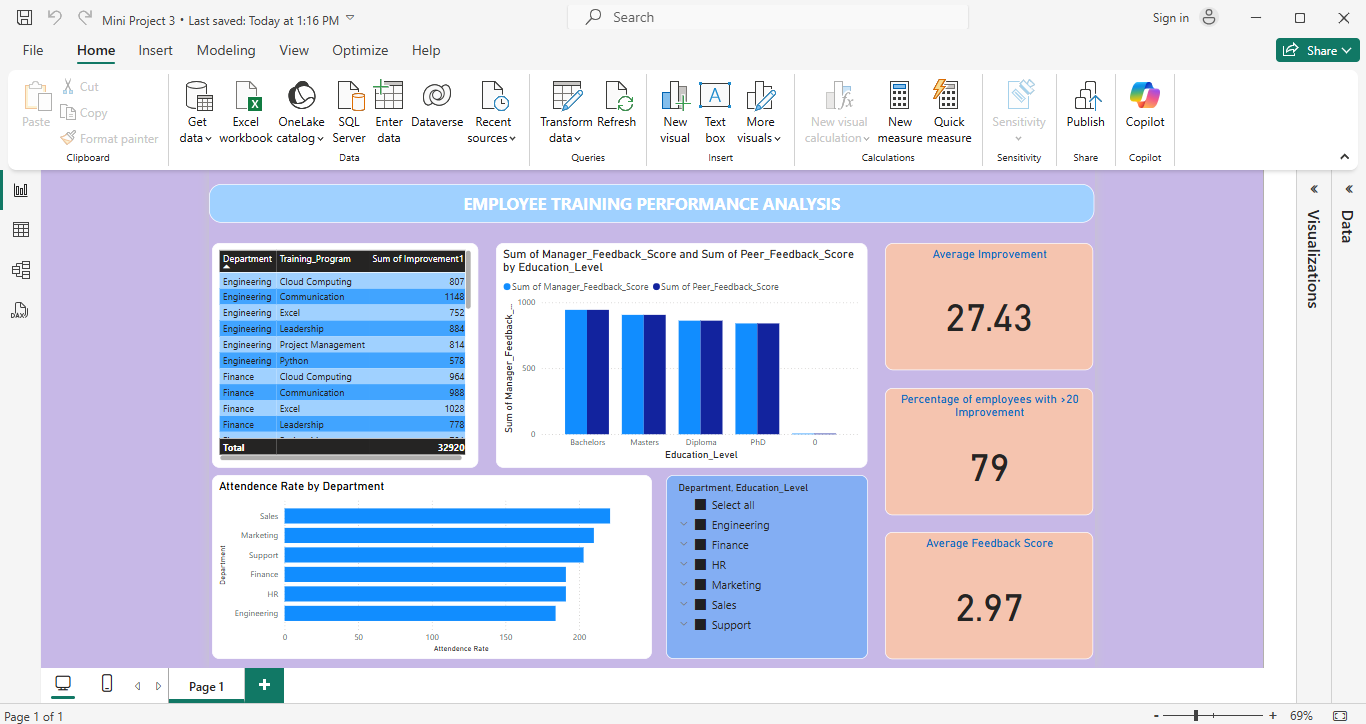

Layout of this report page (visuals, bound fields, positions):
{"tool":"powerbi","page":{"name":"Employee Training Performance Analysis","canvas":[1280,720],"ordinal":0},"visuals":[{"type":"textbox","box":[0,20.6,1280,56.4],"z":0},{"type":"tableEx","fields":{"Values":["employee_training_performance_d.Department","employee_training_performance_d.Training_Program","Sum(employee_training_performance_d.Improvement)"]},"box":[3.9,105.8,384.5,325.2],"z":1000},{"type":"clusteredColumnChart","fields":{"Category":["employee_training_performance_d.Education_Level"],"Y":["Sum(employee_training_performance_d.Manager_Feedback_Score)","Sum(employee_training_performance_d.Peer_Feedback_Score)"]},"box":[415.7,106,536.8,324.8],"z":2000},{"type":"barChart","fields":{"Category":["employee_training_performance_d.Department"],"Y":["employee_training_performance_d.Attendence Rate"]},"box":[4.3,441,636.1,266],"z":3000},{"type":"card","title":"Average Improvement","fields":{"Values":["Avg(employee_training_performance_d.Improvement)"]},"box":[977.3,105.5,300.7,148.9],"z":4000},{"type":"card","title":"Average Feedback Score","fields":{"Values":["Avg(employee_training_performance_d.Peer_Feedback_Score)"]},"box":[978.8,456.9,300.7,148.9],"z":5000},{"type":"card","title":"Percentage of employees with >20  Improvement","fields":{"Values":["employee_training_performance_d.Count Improvement >20"]},"box":[977.3,280.5,300.7,147.5],"z":6000},{"type":"slicer","fields":{"Values":["employee_training_performance_d.Department Hierarchy.Department","employee_training_performance_d.Department Hierarchy.Education_Level"]},"box":[659.3,441,292,266],"z":7000},{"type":"actionButton","box":[1116.1,624.6,161.9,82.4],"z":7001}]}

Visuals, with their boxes on the page's 1280x720 design canvas (x1, y1, x2, y2). These are canvas units, not pixel positions in the 1366x724 screenshot, which may show the page scaled, cropped or inside an application window:
textbox: left=0, top=21, right=1280, bottom=77
tableEx - employee_training_performance_d.Department x employee_training_performance_d.Training_Program: left=4, top=106, right=388, bottom=431
clusteredColumnChart - employee_training_performance_d.Education_Level x Sum(employee_training_performance_d.Manager_Feedback_Score): left=416, top=106, right=952, bottom=431
barChart - employee_training_performance_d.Department x employee_training_performance_d.Attendence Rate: left=4, top=441, right=640, bottom=707
"Average Improvement" card: left=977, top=106, right=1278, bottom=254
"Average Feedback Score" card: left=979, top=457, right=1280, bottom=606
"Percentage of employees with >20  Improvement" card: left=977, top=280, right=1278, bottom=428
slicer - employee_training_performance_d.Department Hierarchy.Department x employee_training_performance_d.Department Hierarchy.Education_Level: left=659, top=441, right=951, bottom=707
actionButton: left=1116, top=625, right=1278, bottom=707
